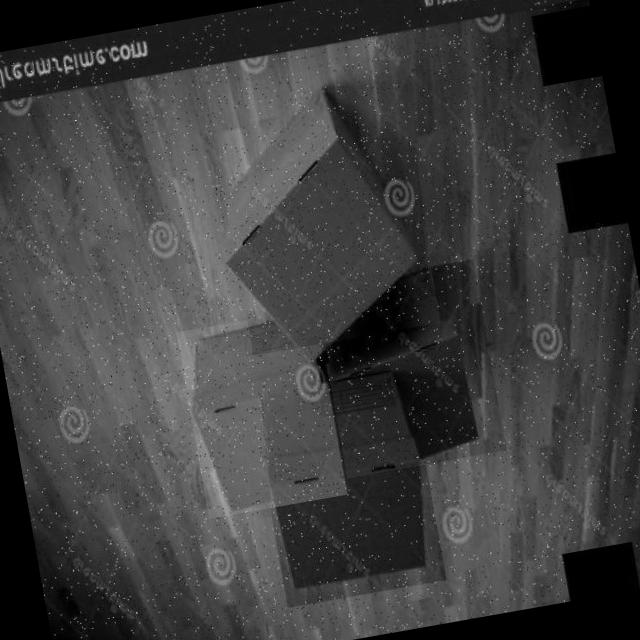box: (206, 54, 440, 355), (249, 360, 446, 607), (313, 258, 506, 478), (176, 308, 347, 518)
